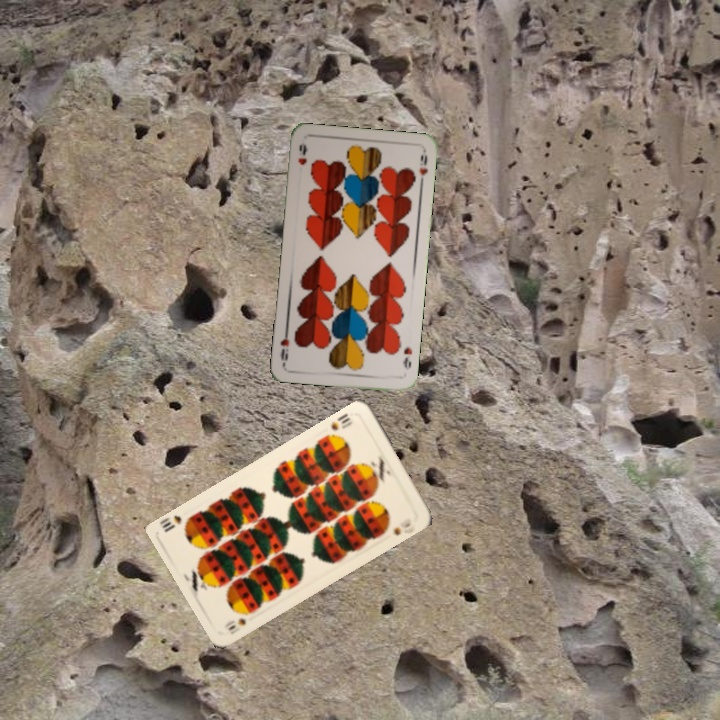H9: (399, 343, 415, 372), (294, 139, 310, 167)
S10: (327, 409, 356, 433), (224, 613, 248, 637)
